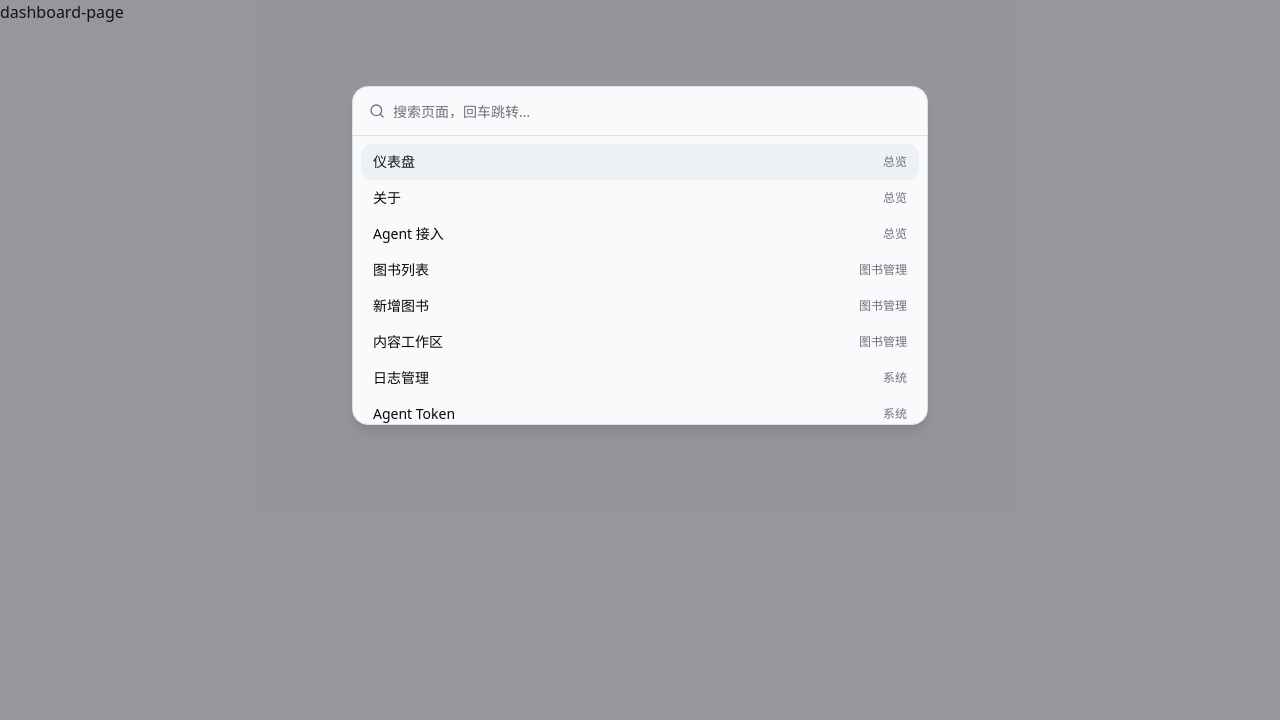
CommandPalette › 无匹配时空态播报且不渲染 listbox
Type "不存在的页面" into the dropdown labelled "搜索页面". click: (652, 111)
box: x1=393 y1=87 x2=911 y2=135
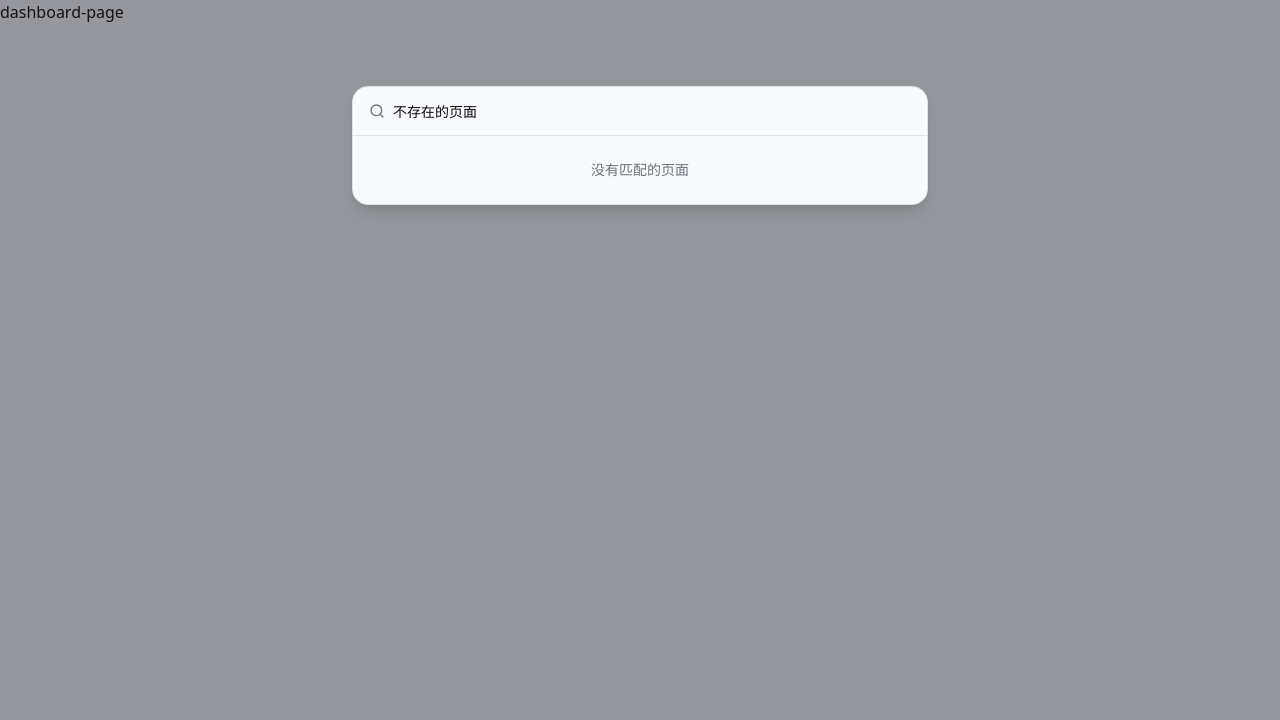
expect the list is gone: met
